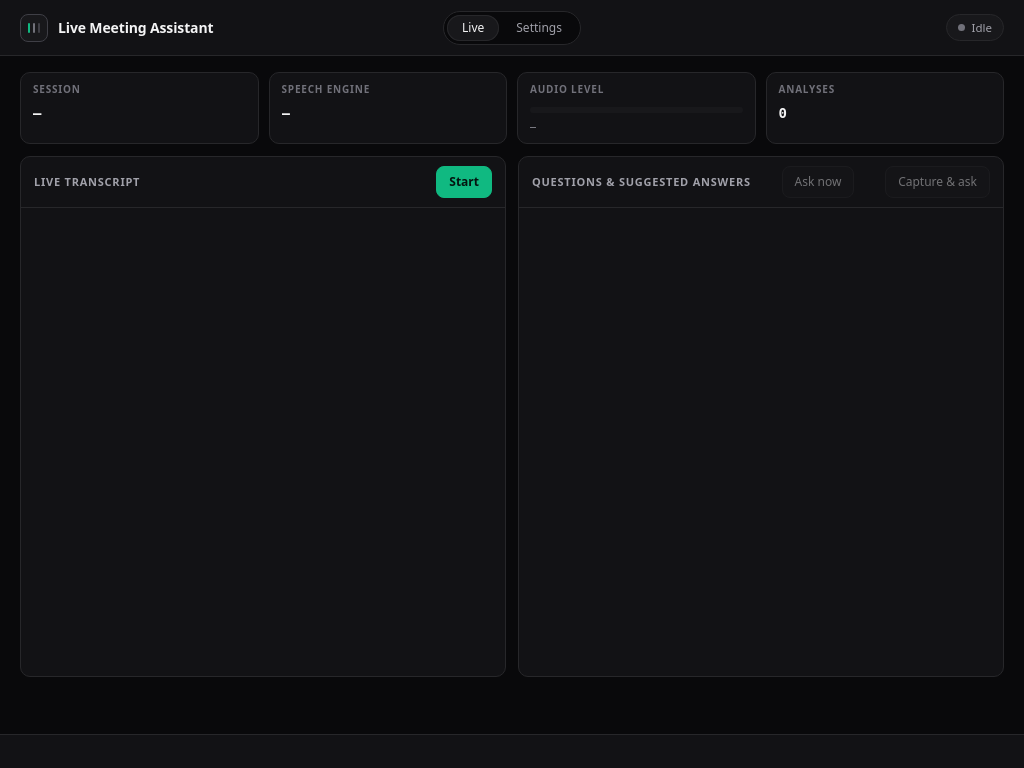
Test case: start_opens_course_picker_and_calls_start_session
Step 1. Click the button "Start" → (464, 182), box [436,166,492,198]
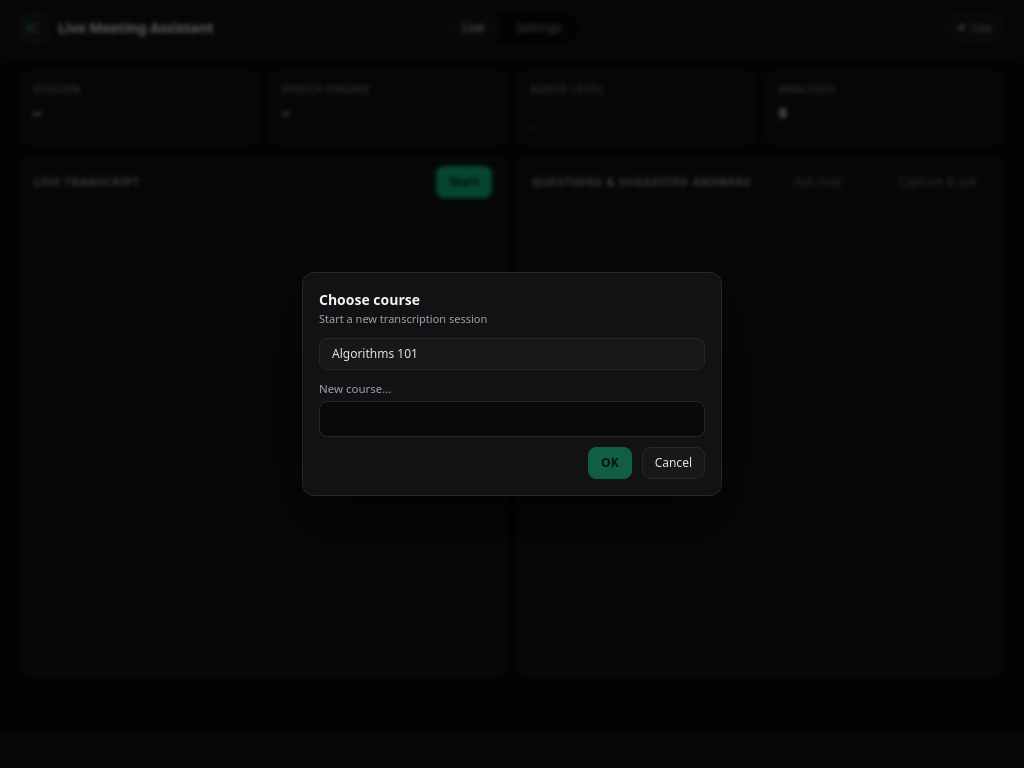
Step 2. Click the button "Algorithms 101" → (375, 353), box [319,338,705,370]
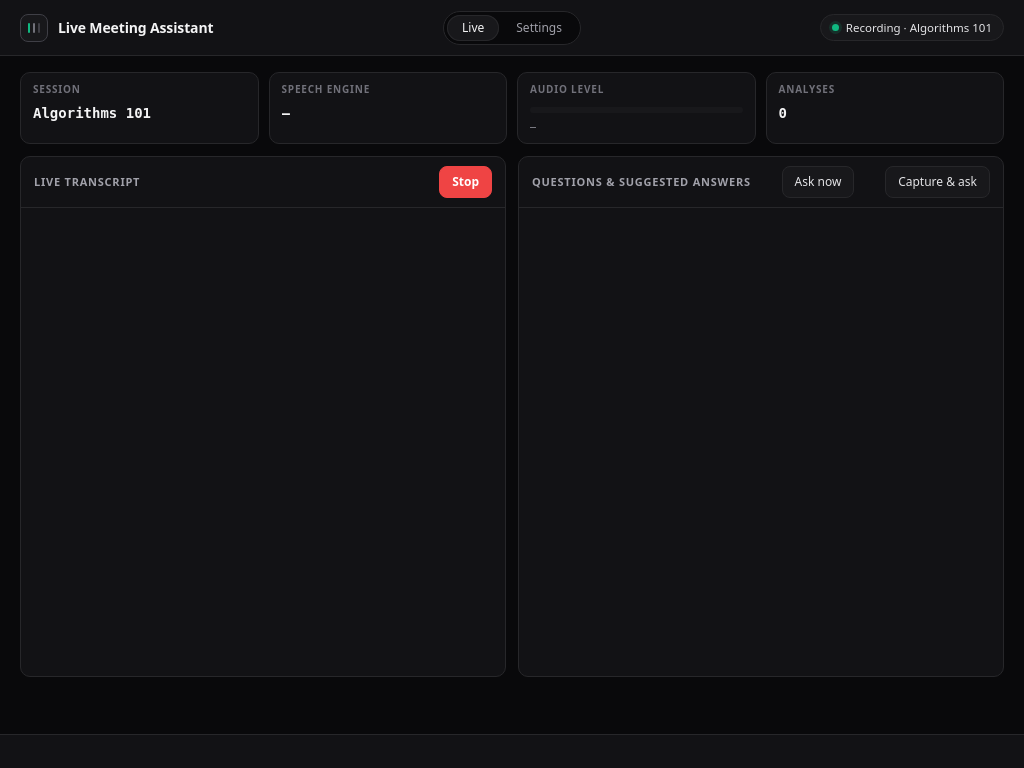
Result: the button "Stop" is shown at [439,166,492,198]
